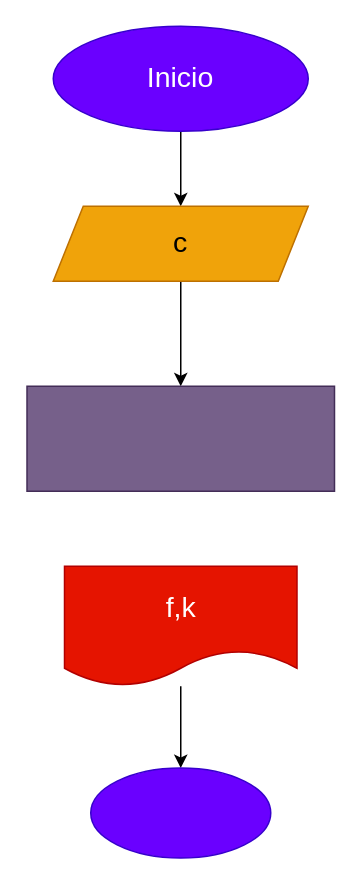
Some shapes in this 360 by 885 pixel diagram are drawn without their labels. Each missing label, with the centre of its shape:
Fin: the point at 180,812
k=c+273.15 f=1.8*6+32: the point at 180,438
